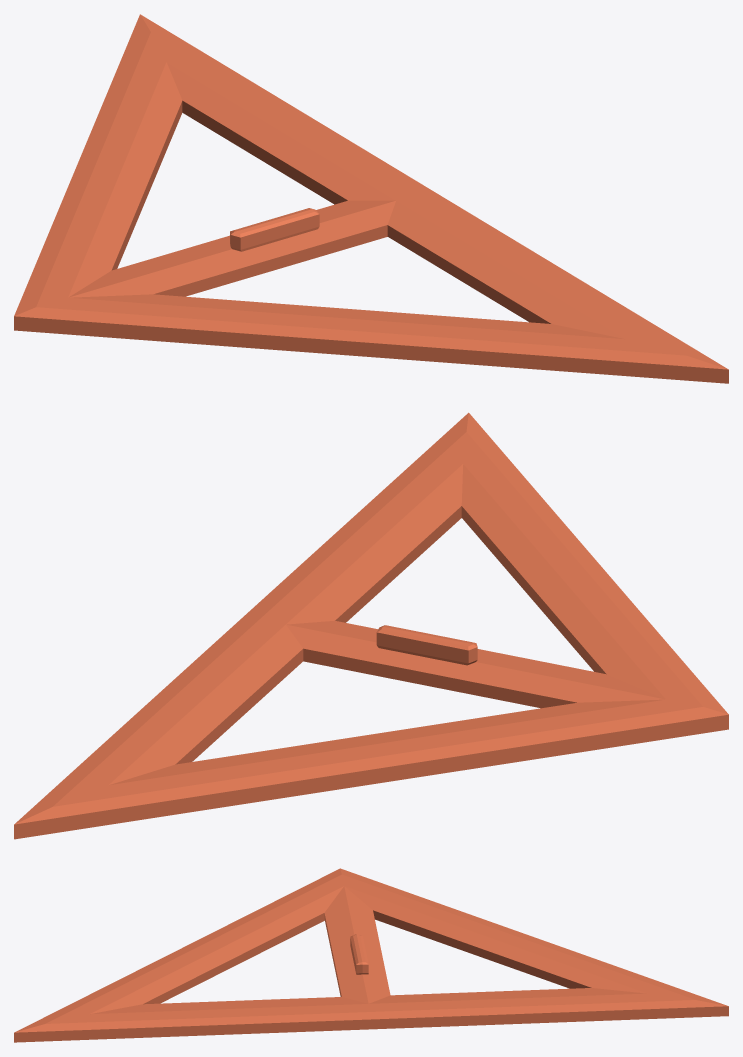
File: geodreieck.glb
3 views of the same model, one above another, from view 1: azimuth 30°, elevation 25°; view 2: azimuth 150°, elevation 25°; view 3: azimuth 270°, elevation 25° (orthographic). The views are drawn at different scales.
Parts seen in each view (by area): view 1: Geodreieck; view 2: Geodreieck; view 3: Geodreieck.
Part boxes in pixels (bbox=[...]): Geodreieck: bbox=[14, 14, 728, 383]; Geodreieck: bbox=[14, 412, 728, 839]; Geodreieck: bbox=[14, 868, 728, 1042].
Bounding box in the file's own units: 2.08 × 0.1377 × 3.83.
